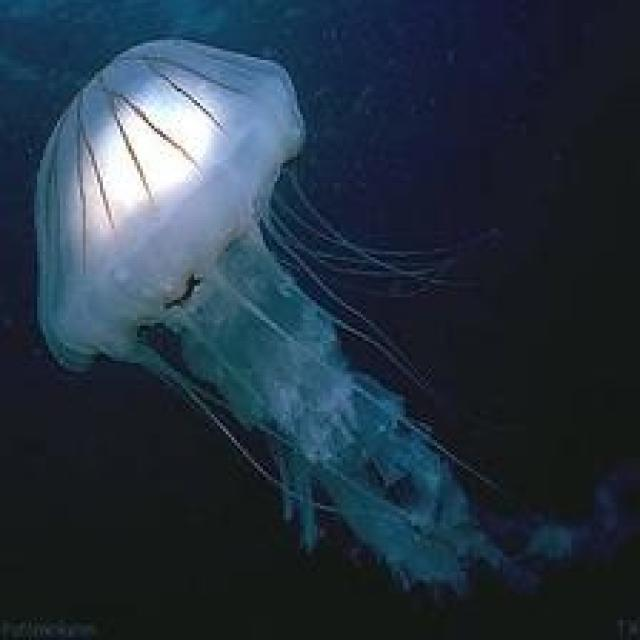Human: (28, 34, 546, 600)
